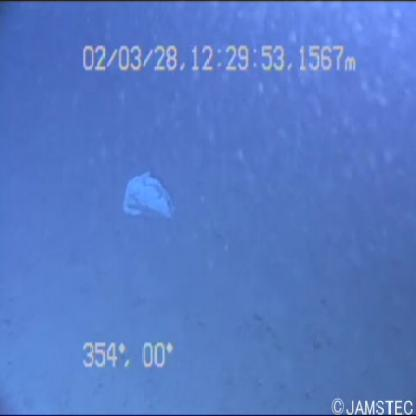Rác: (109, 166, 192, 226)
